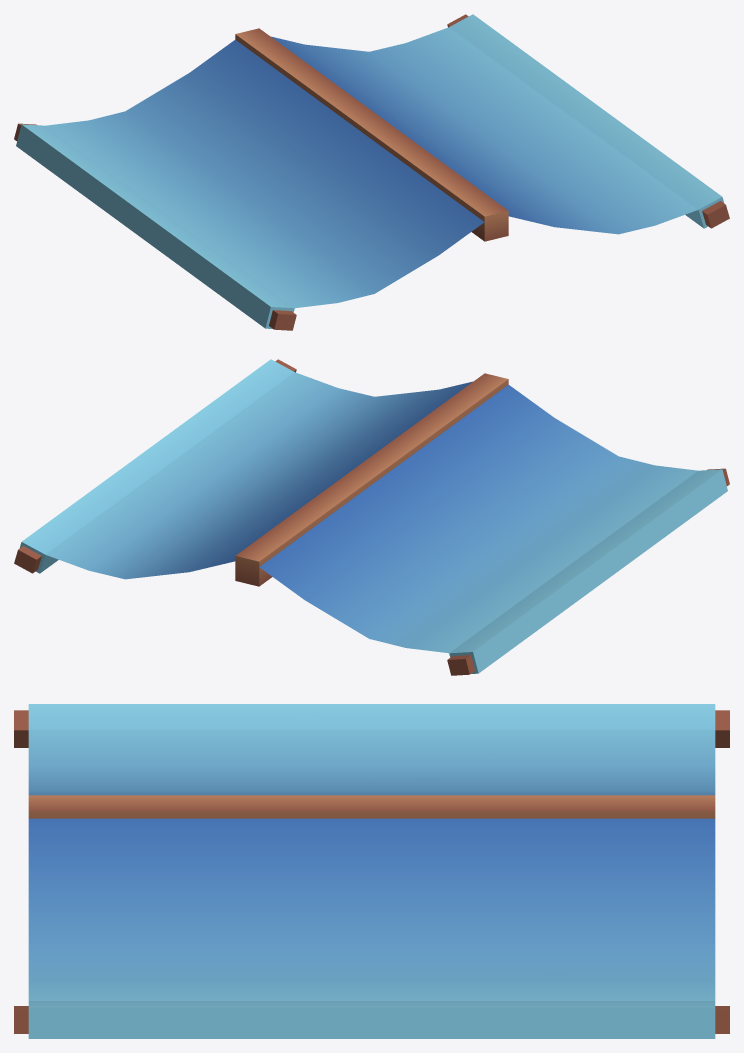
Rendered from Parasol08.fbx.
The picture shows the model from 3 angles, top to bottom: view 1: azimuth 30°, elevation 25°; view 2: azimuth 150°, elevation 25°; view 3: azimuth 270°, elevation 25°; orthographic projection. The views are drawn at different scales.
Parts seen in each view (by area): view 1: Parasol08; view 2: Parasol08; view 3: Parasol08.
Part boxes in pixels (bbox=[...]): Parasol08: bbox=[14, 14, 729, 330]; Parasol08: bbox=[14, 359, 729, 675]; Parasol08: bbox=[14, 704, 729, 1038].
Size of the model in its own units: 1.69 by 0.2294 by 1.65.
Materials: 1 (1 with a texture image).
